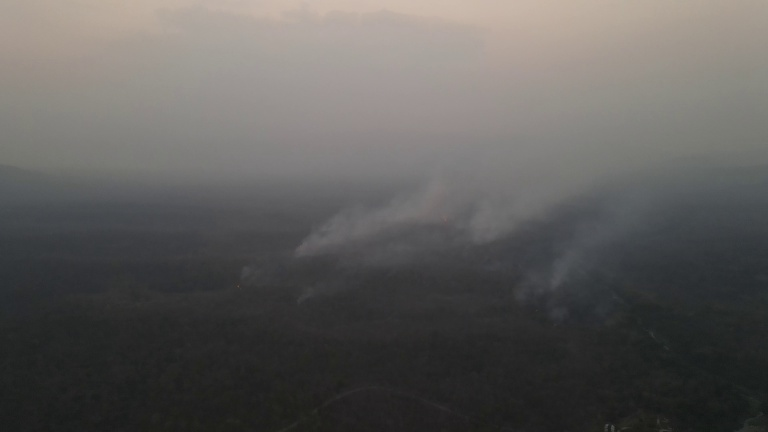smoke: (284, 128, 608, 321), (229, 251, 271, 294)
